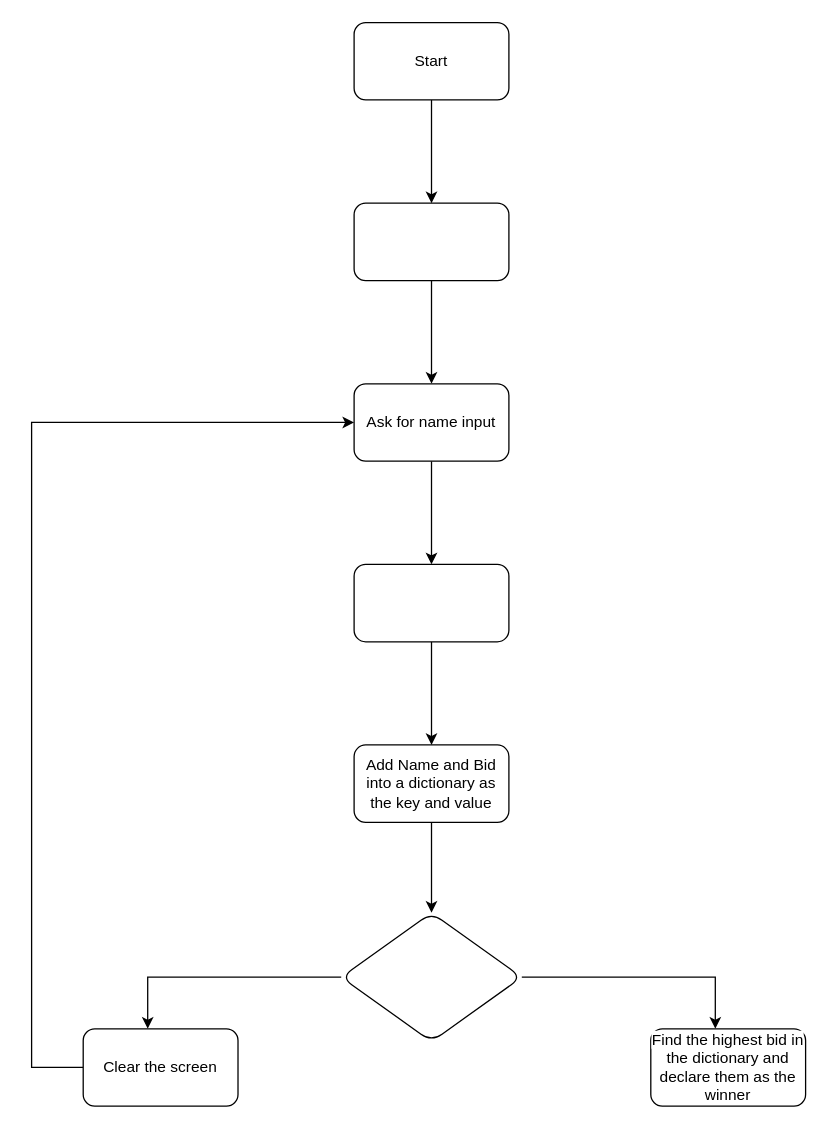
The diagram is 828 pixels wide and 1129 high, and some of its shapes have lost their labels. The centre of each missing label's shape, as x and y in pixels:
Ask for Bid Price: [431,602]
Aske if there are other user who want bid: [431,976]
Show logo from art.py: [431,241]
